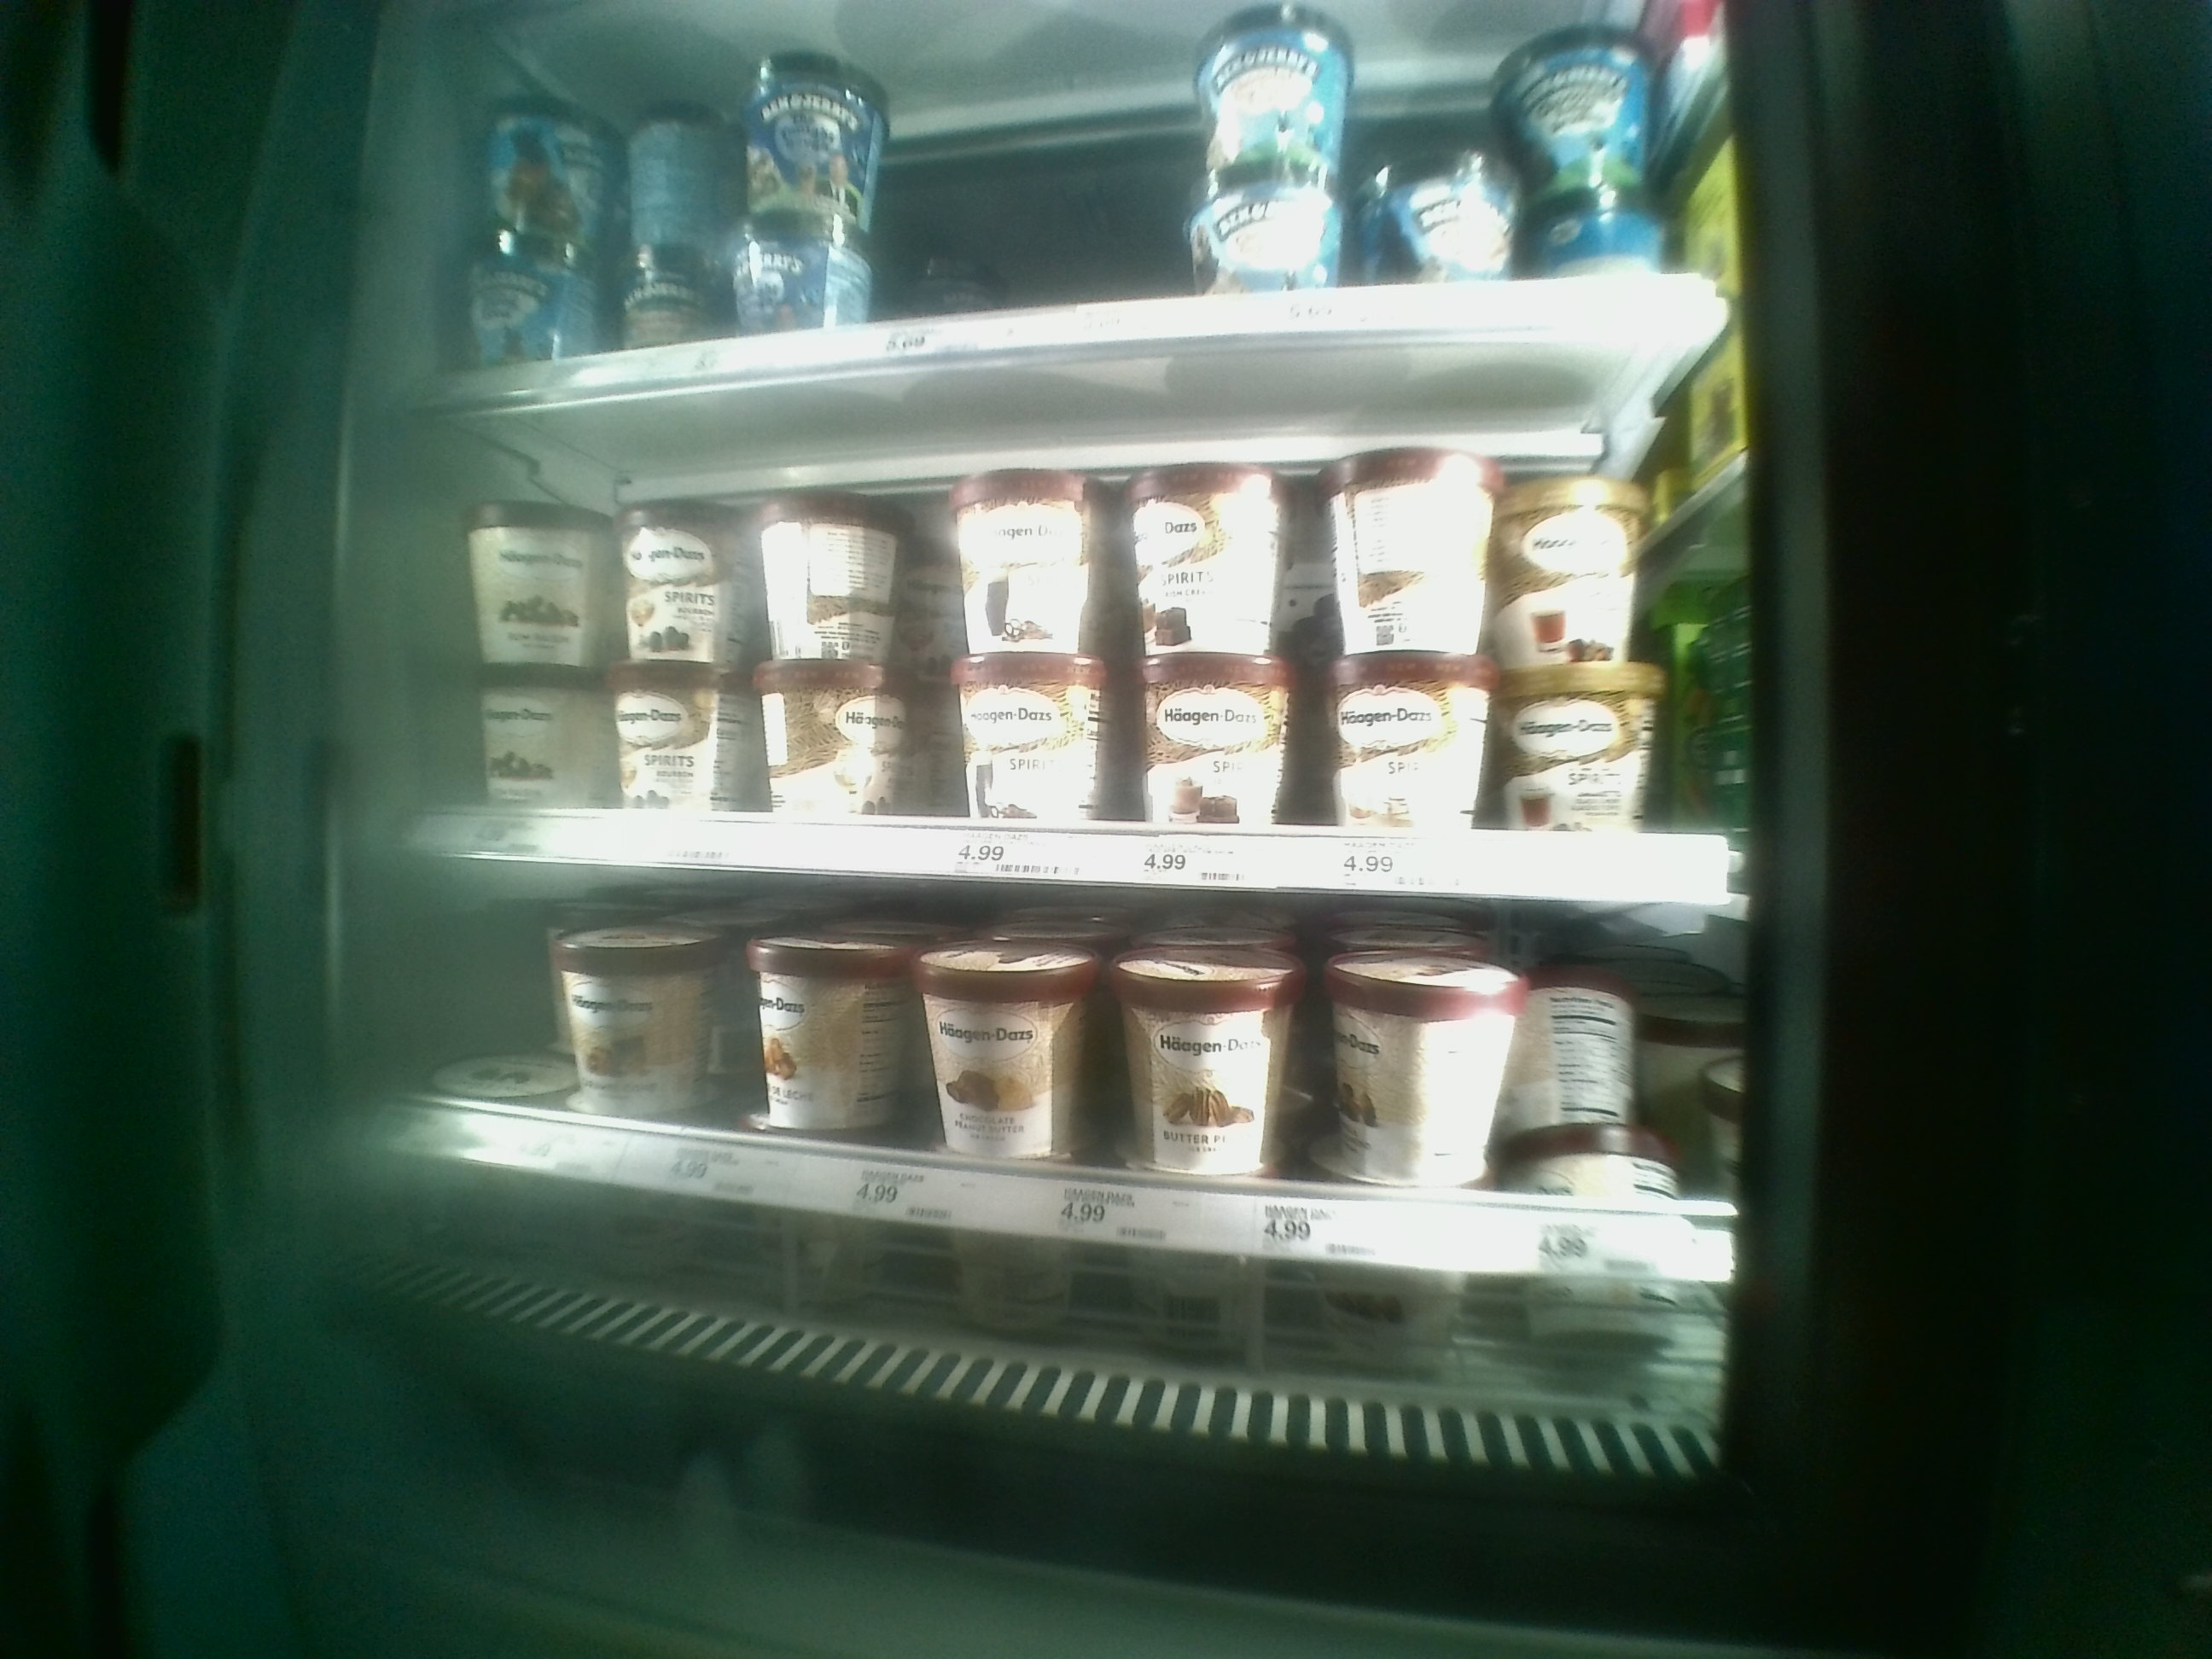ice-cream-shelf: (395, 889, 1749, 1385), (395, 404, 1757, 894)
